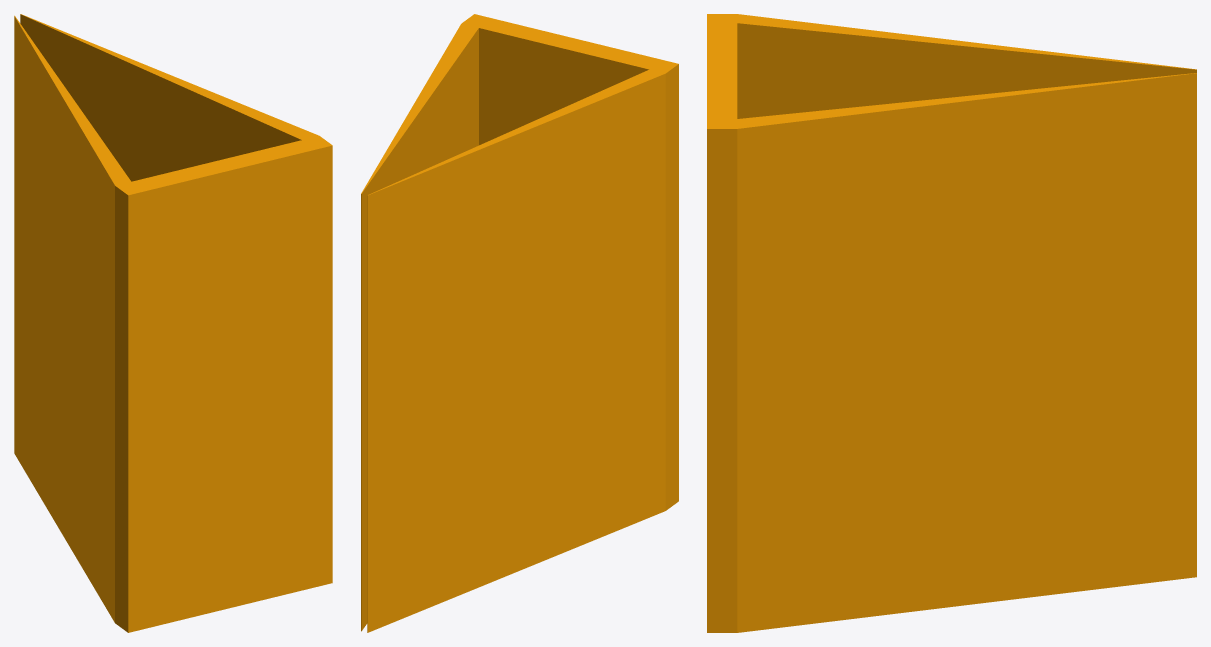
File: YellowFolder.fbx
3 renders of one model, left to right at view 1: azimuth 30°, elevation 25°; view 2: azimuth 150°, elevation 25°; view 3: azimuth 270°, elevation 25°, orthographic. The views are drawn at different scales.
Parts seen in each view (by area): view 1: Cube.005; view 2: Cube.005; view 3: Cube.005.
Boxes of the visible parts, x1,y1,x2,y2 form: Cube.005: [14, 14, 332, 632]; Cube.005: [361, 14, 678, 632]; Cube.005: [707, 14, 1196, 632].
Size of the model in its own units: 72.23 by 148 by 130.
